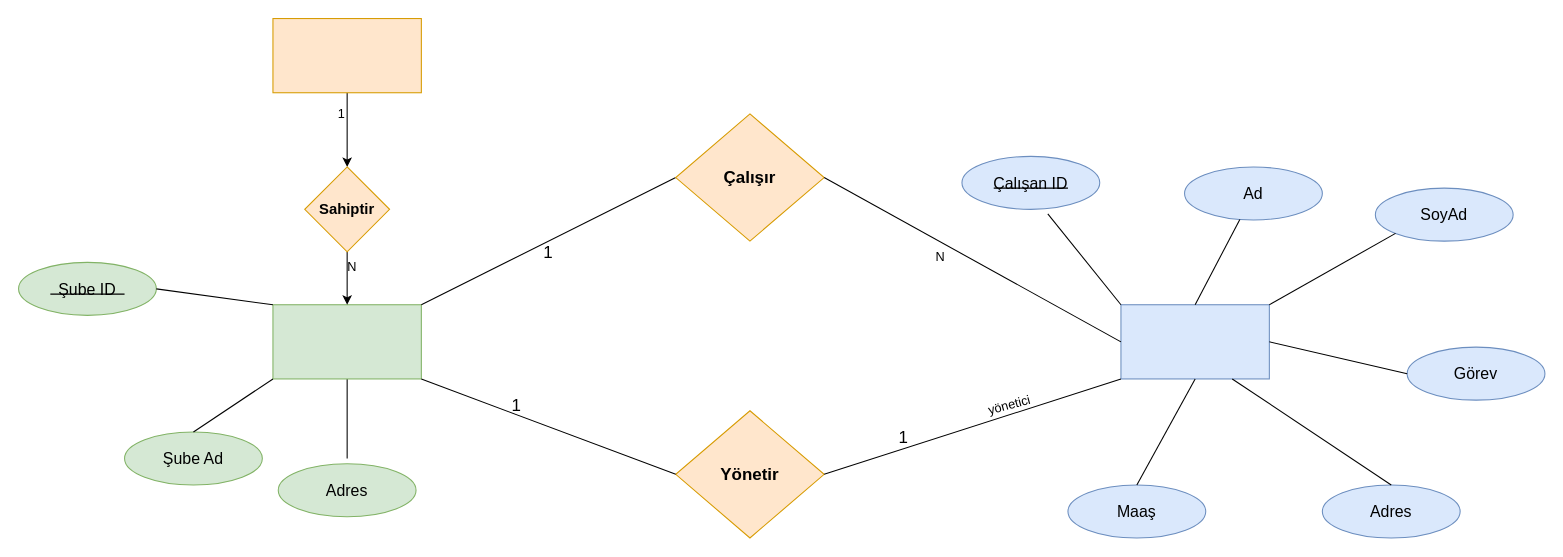
This 1563x557 diagram has some shape labels left out. The centre of each missing label's shape, as x and y in pixels:
Çalışan: (x=1194, y=341)
Şirket: (x=346, y=55)
Şube: (x=346, y=341)
